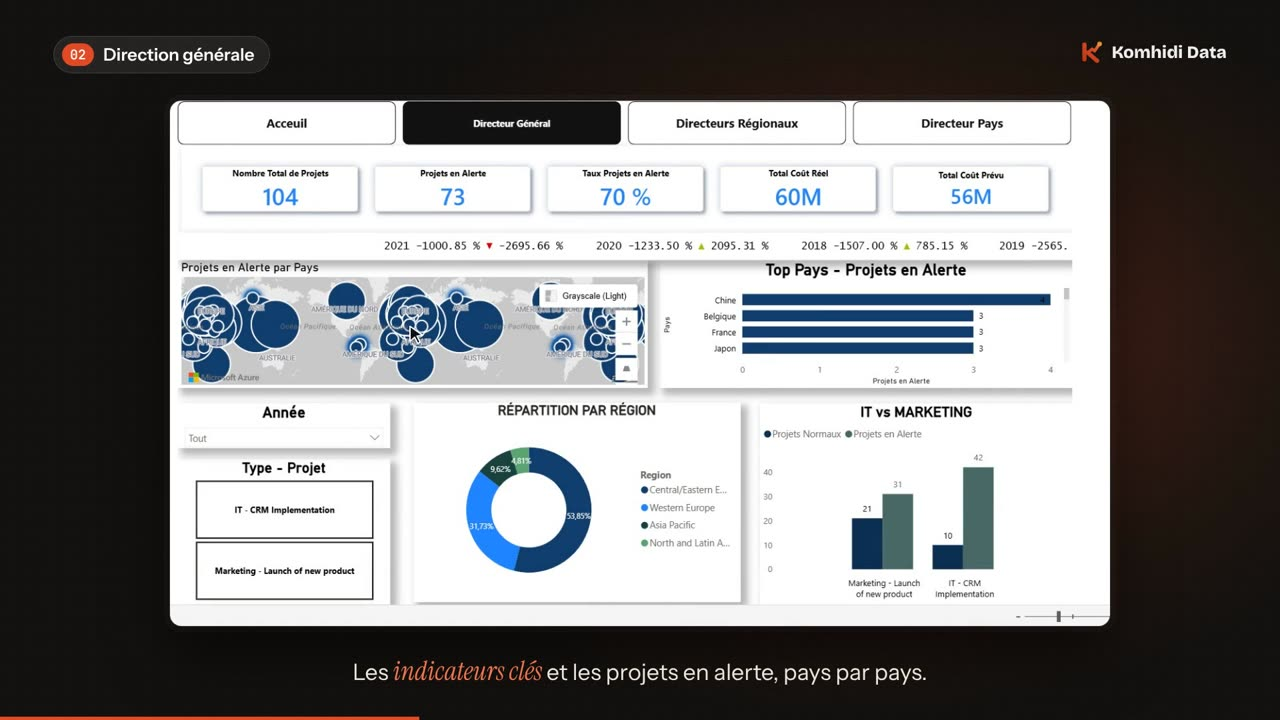

This screenshot's page, from the dashboard's own definition file:
{"tool":"powerbi","page":{"name":"Directeur Général","canvas":[1280,720],"ordinal":1},"visuals":[{"type":"cardVisual","fields":{"Data":["Mesures.Nombre Total de Projets","Mesures.Projets en Alerte","Mesures.Taux Projets en Alerte (%)","Mesures.Total Coût Réel","Mesures.Total Coût Prévu"]},"box":[0,64,1280,112],"z":0},{"type":"barChart","title":"Top Pays - Projets en Alerte","fields":{"Category":["Projet_Table_Final.Pays"],"Y":["Mesures.Projets en Alerte"]},"box":[689.2,226.7,590.7,183.5],"z":1000},{"type":"ScrollingTextVisual1448795304508","fields":{"Measure Absolute":["Mesures.Écart Durée (%)"],"Measure Deviation":["Mesures.Écart Coût (%)"],"Category":["Calendrier.Année"]},"box":[0,186.5,1279.9,40.3],"z":2000},{"type":"actionButton","box":[0,0,100,40],"z":3000},{"type":"donutChart","title":"RÉPARTITION PAR RÉGION","fields":{"Category":["Projet_Table_Final.Region"],"Y":["Mesures.Nombre Total de Projets"]},"box":[337.1,430,467.8,285.1],"z":4000},{"type":"clusteredColumnChart","title":"IT vs MARKETING","fields":{"Category":["Projet_Table_Final.Type Projet"],"Y":["Mesures.Projets Normaux","Mesures.Projets en Alerte"]},"box":[832,432,448,288],"z":5000},{"type":"slicer","title":"Type - Projet","fields":{"Values":["Projet_Table_Final.Type Projet"]},"box":[0,512,304,208],"z":6000},{"type":"slicer","title":"Année","fields":{"Values":["Calendrier.Année"]},"box":[0,432,304,64],"z":7000},{"type":"pageNavigator","box":[0,0,1280,48],"z":8000},{"type":"azureMap","fields":{"Category":["Projet_Table_Final.Pays"],"Size":["Mesures.Projets en Alerte"]},"box":[0,227,689,183],"z":9000}]}

Visuals, with their boxes on the page's 1280x720 design canvas (x1, y1, x2, y2). These are canvas units, not pixel positions in the 1280x720 screenshot, which may show the page scaled, cropped or inside an application window:
cardVisual - Mesures.Nombre Total de Projets x Mesures.Projets en Alerte: (0, 64, 1280, 176)
"Top Pays - Projets en Alerte" barChart: (689, 227, 1280, 410)
ScrollingTextVisual1448795304508 - Mesures.Écart Durée (%) x Mesures.Écart Coût (%): (0, 186, 1280, 227)
actionButton: (0, 0, 100, 40)
"RÉPARTITION PAR RÉGION" donutChart: (337, 430, 805, 715)
"IT vs MARKETING" clusteredColumnChart: (832, 432, 1280, 720)
"Type - Projet" slicer: (0, 512, 304, 720)
"Année" slicer: (0, 432, 304, 496)
pageNavigator: (0, 0, 1280, 48)
azureMap - Projet_Table_Final.Pays x Mesures.Projets en Alerte: (0, 227, 689, 410)
